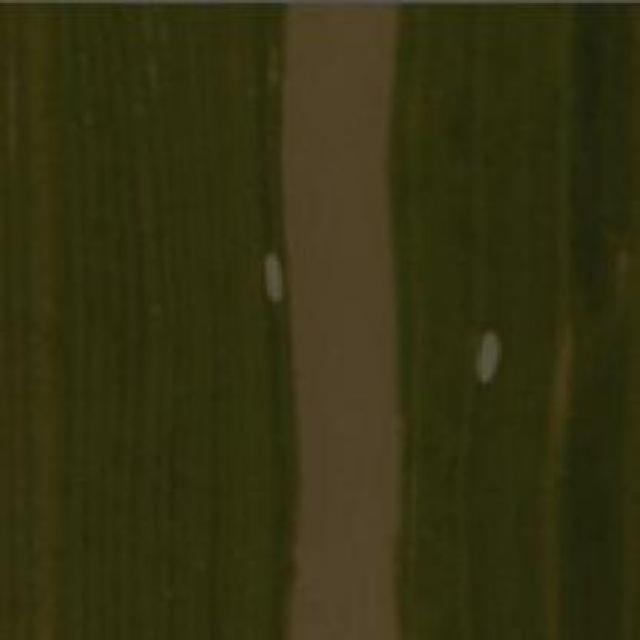whorl-maggot: (468, 317, 506, 389), (261, 248, 288, 308)
